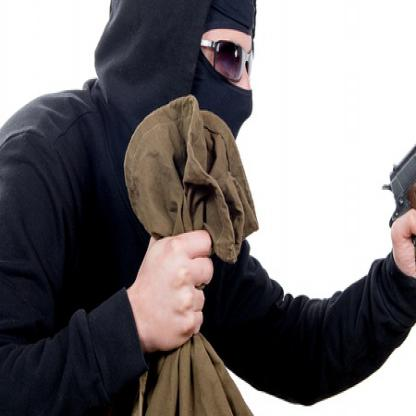gun: (381, 48, 415, 302)
